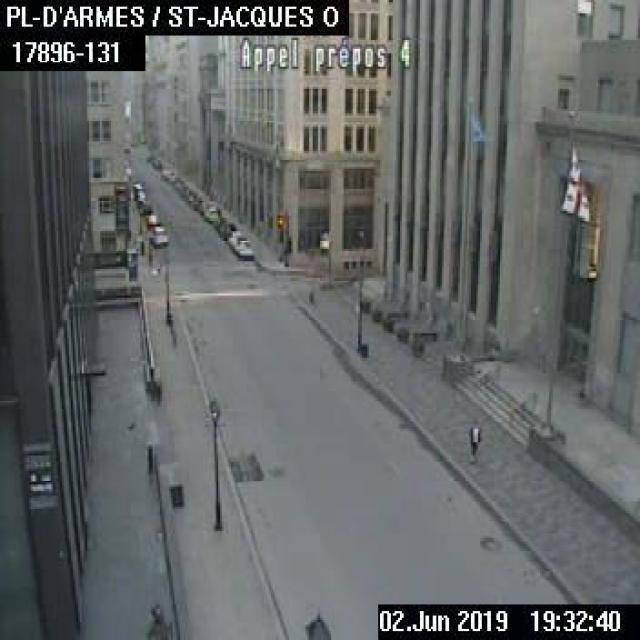pedestrian: (466, 417, 478, 457)
vehicle: (147, 224, 167, 246), (217, 220, 235, 238), (205, 201, 221, 221), (237, 237, 253, 257), (230, 232, 245, 251), (225, 227, 240, 246), (212, 215, 225, 228)
